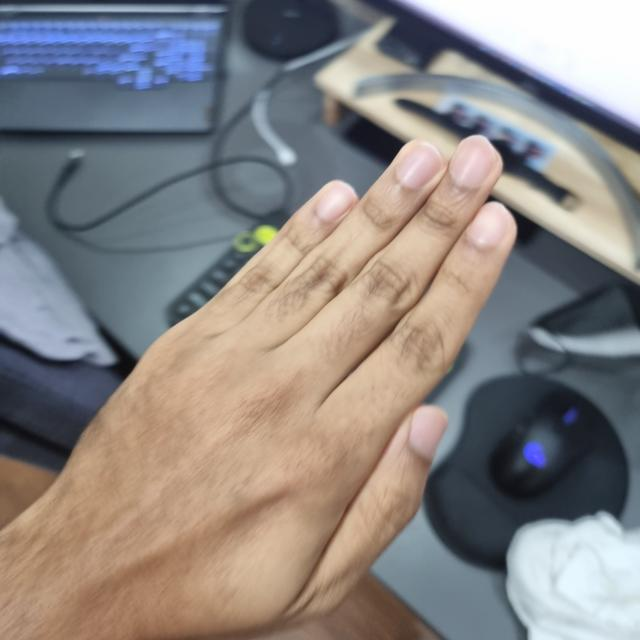Paper: (12, 143, 513, 639)
